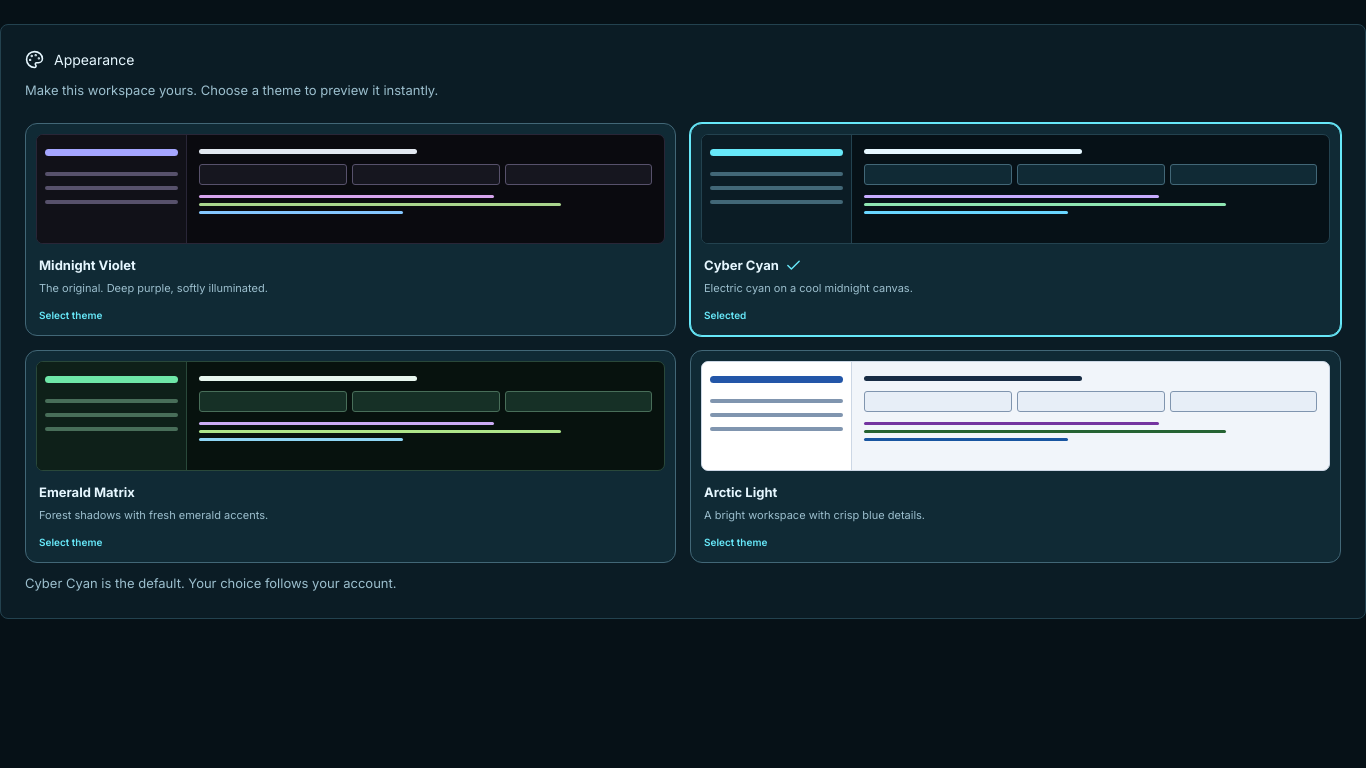
Scenario: applies immediately, serializes rapid selections and saves the latest choice last
Click the button "Midnight Violet". click: {"x": 350, "y": 229}
box: [25,123,676,336]
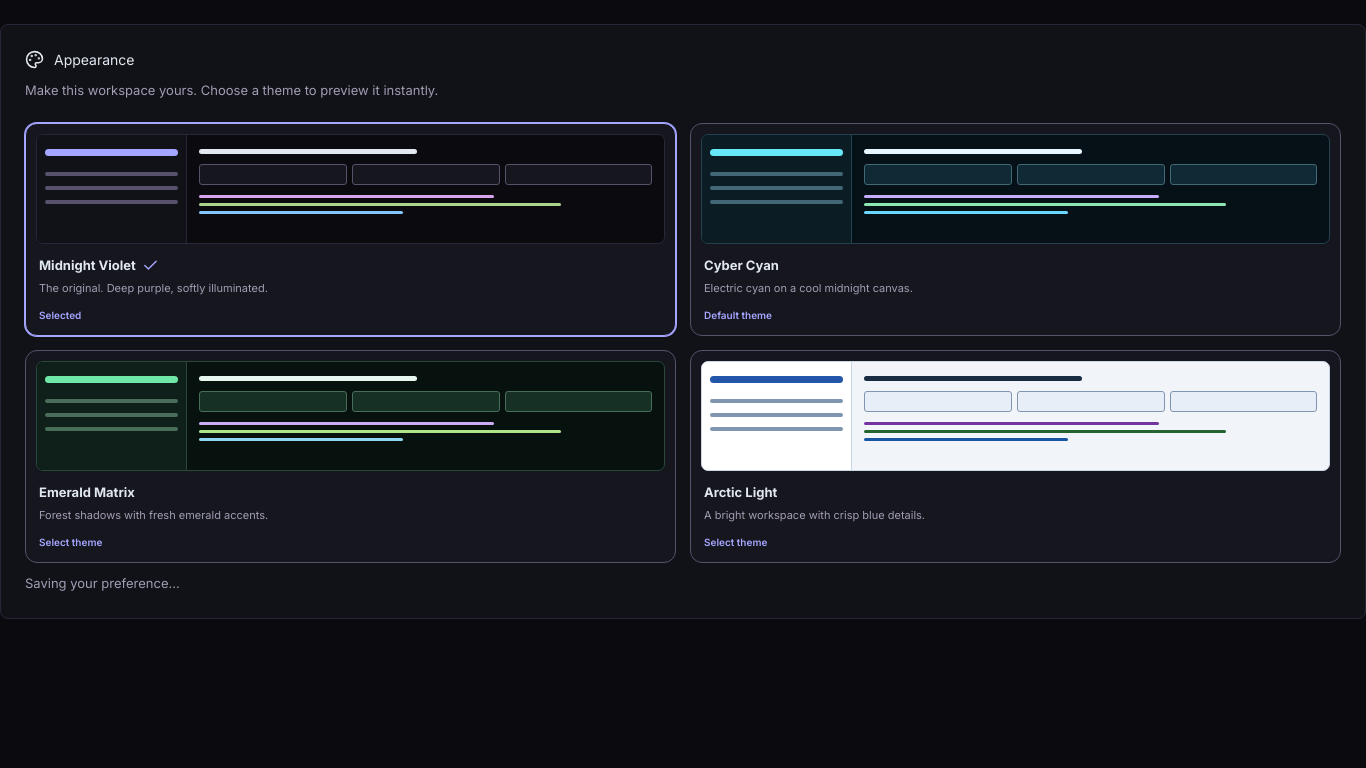
Click the button "Emerald Matrix". click: {"x": 350, "y": 456}
box: [25,350,676,563]
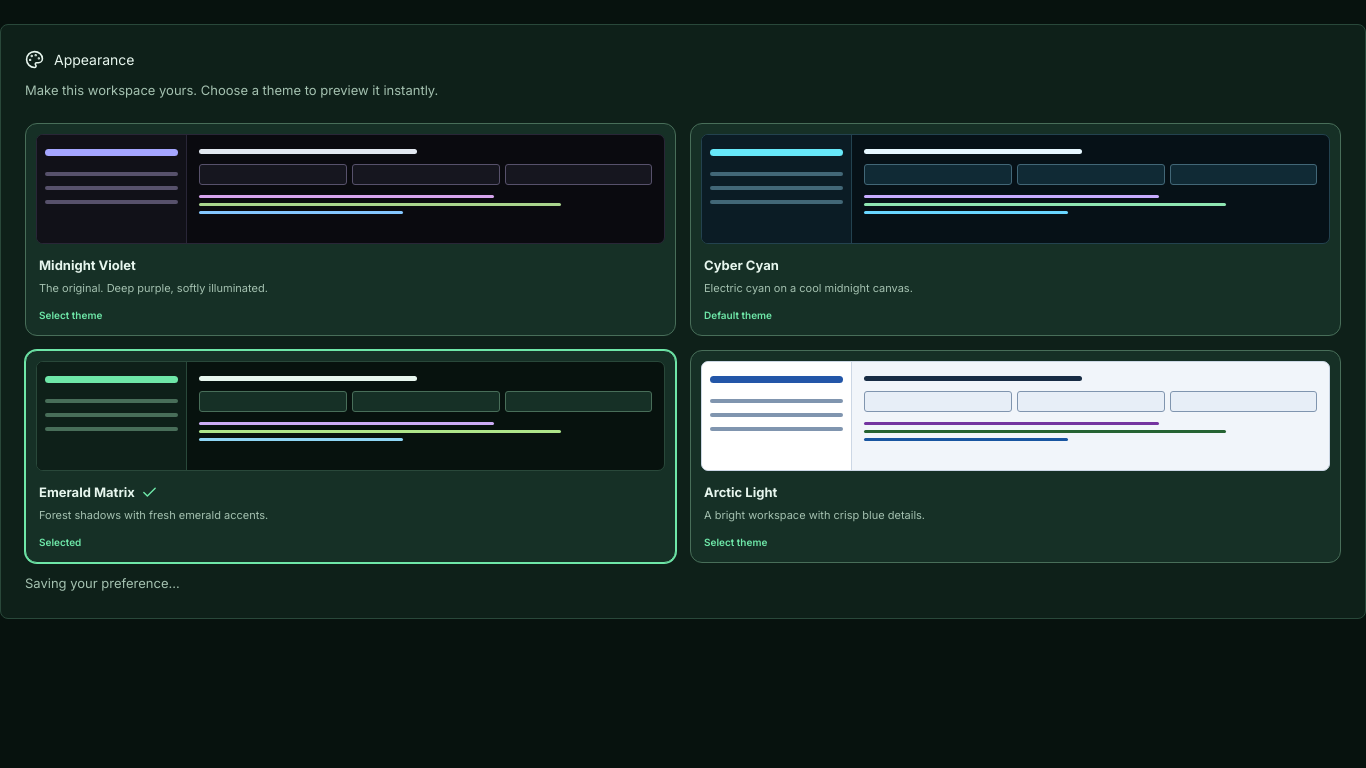
Click the button "Arctic Light". click: {"x": 1016, "y": 456}
box: [690,350,1341,563]
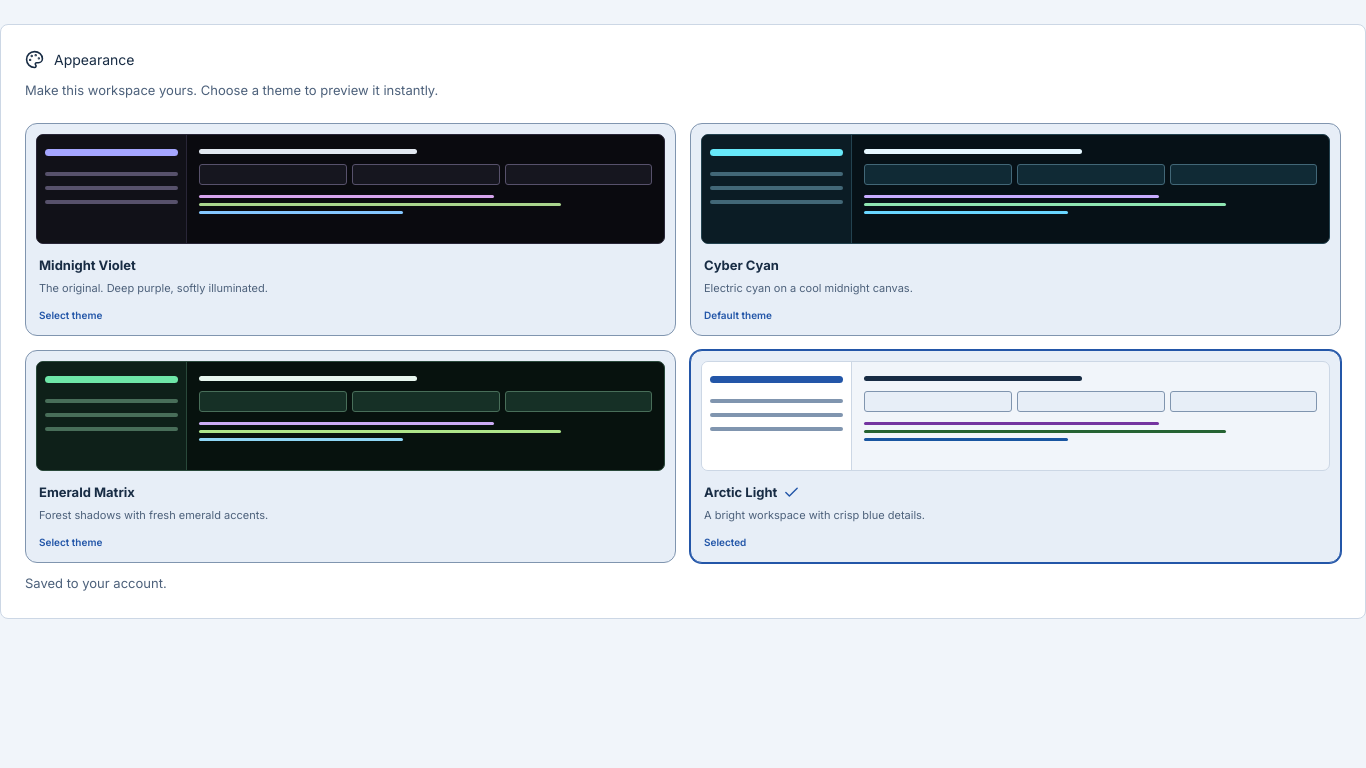
Expected: the text "Saved to your account." is shown, [25,575,167,591]
